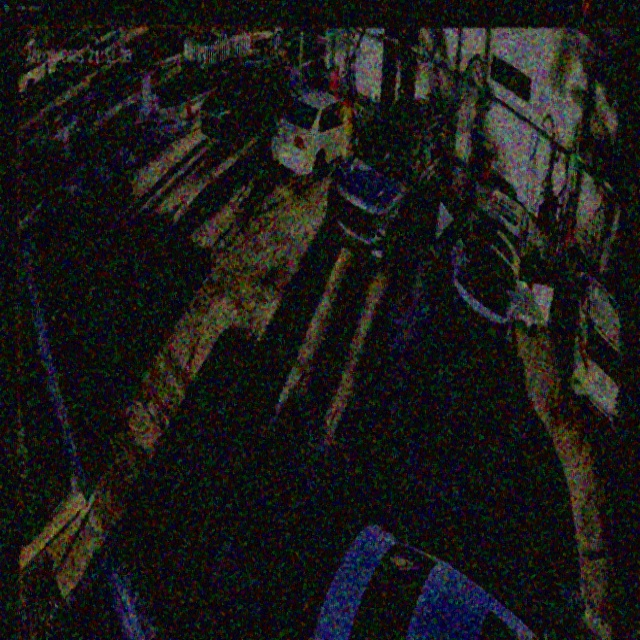Car: (327, 99, 453, 265), (443, 181, 550, 354), (272, 91, 368, 181), (200, 56, 291, 148)
